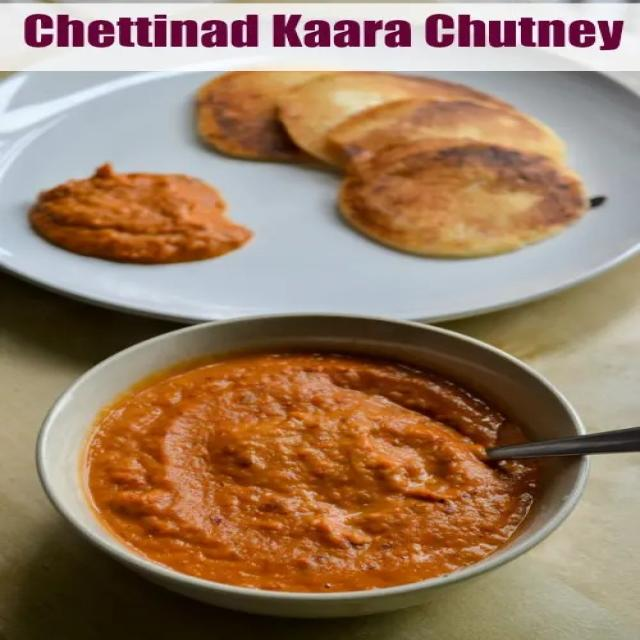kaara chutney: (54, 327, 575, 601)
